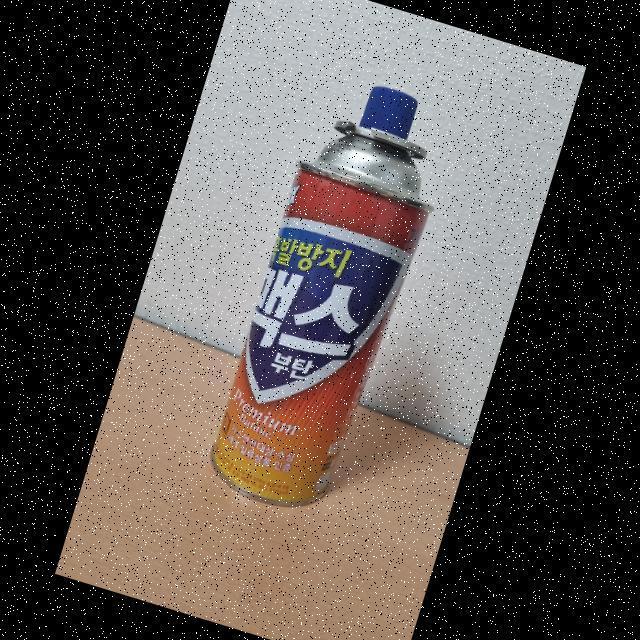chemical_spray_can: (181, 60, 491, 556)
